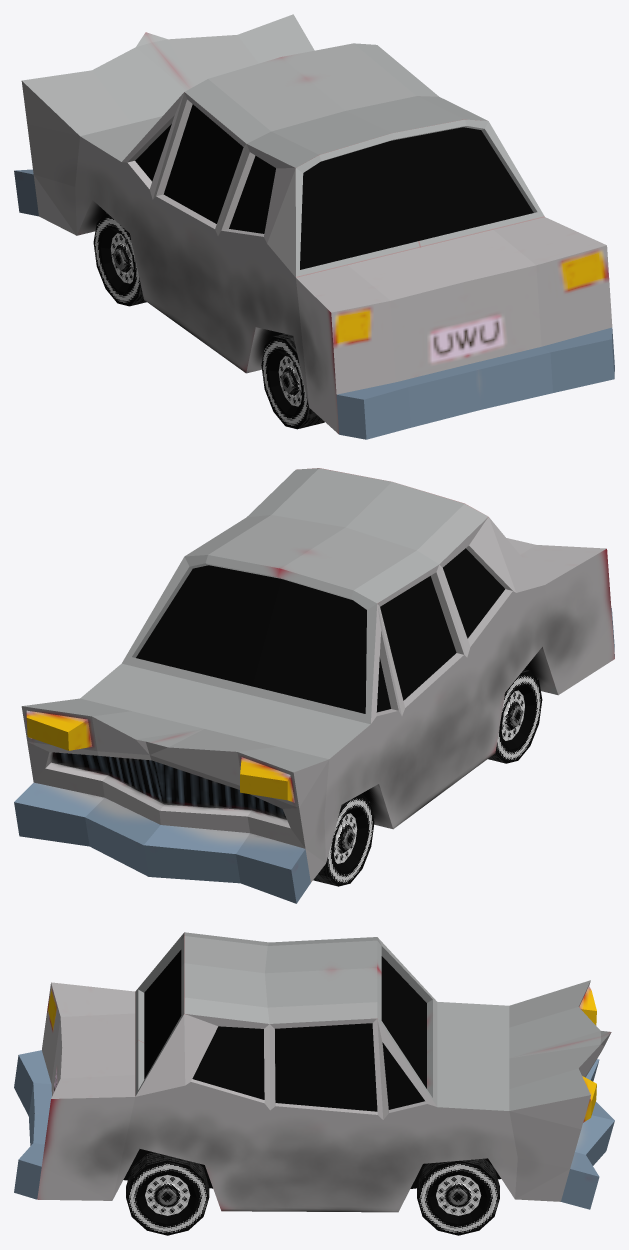
File: auto.sedan.glb
The picture shows the model from 3 angles, top to bottom: view 1: azimuth 30°, elevation 25°; view 2: azimuth 150°, elevation 25°; view 3: azimuth 270°, elevation 25°; orthographic projection. The views are drawn at different scales.
Parts seen in each view (by area): view 1: Cube, wheel.004, wheel.001; view 2: Cube, wheel.001, wheel.004; view 3: Cube, wheel.003, wheel.002.
Part boxes in pixels (left/top/right/bottom): Cube: left=14, top=14, right=614, bottom=439; wheel.004: left=261, top=333, right=324, bottom=429; wheel.001: left=93, top=213, right=146, bottom=306; Cube: left=14, top=468, right=614, bottom=903; wheel.001: left=313, top=793, right=374, bottom=886; wheel.004: left=488, top=669, right=542, bottom=763; Cube: left=14, top=932, right=614, bottom=1212; wheel.003: left=126, top=1152, right=209, bottom=1235; wheel.002: left=417, top=1158, right=499, bottom=1235.
Bounding box in the file's own units: 1.34 × 1.19 × 2.89.
2 materials, 2 textured.
